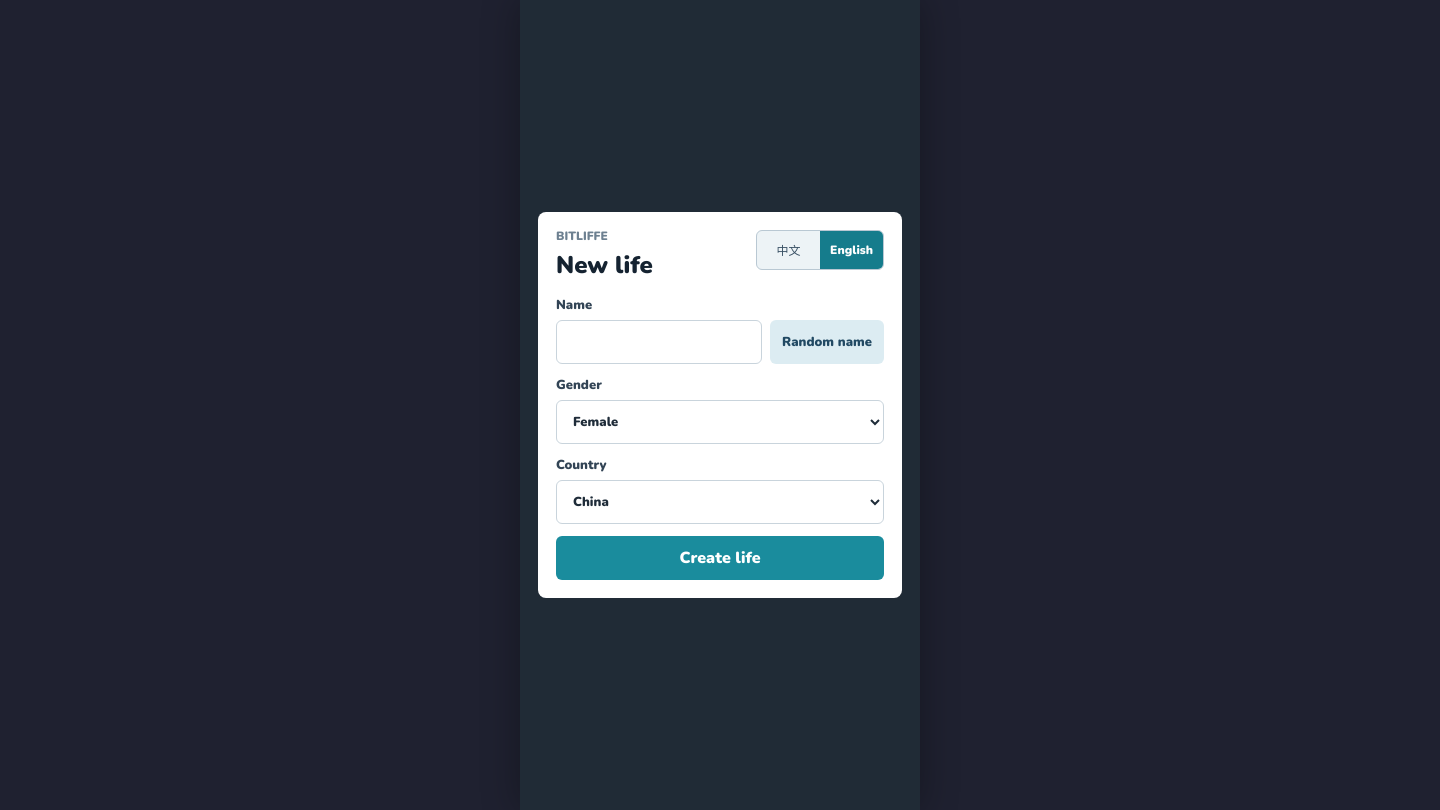
Test: P1 app integration › keeps archive and activity panels out of the life timeline page
Type "Mina Lin" into the field labelled "Name" at (659, 342), box [556,320,762,364]
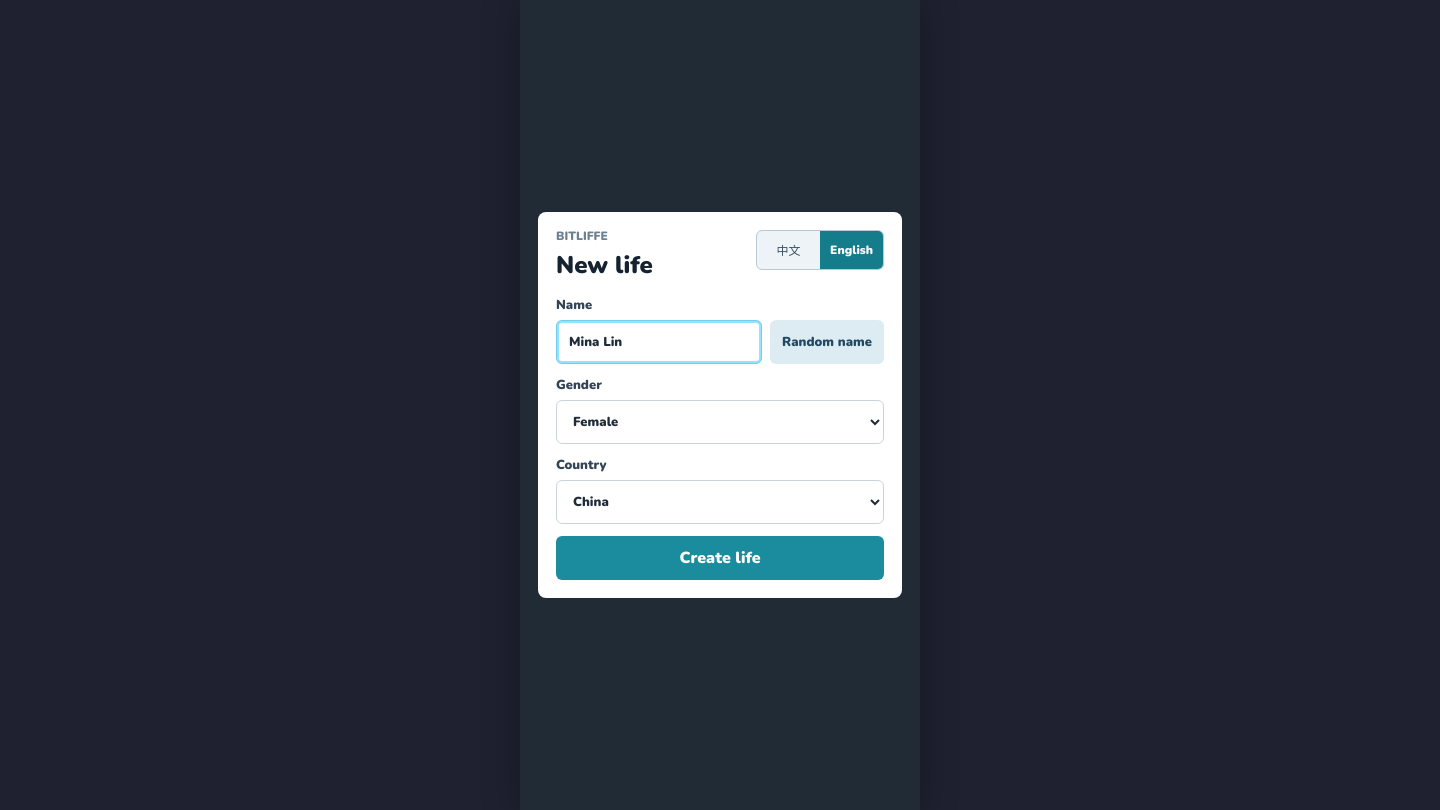
Click the button "Create life" at (720, 558), box [556,536,884,580]
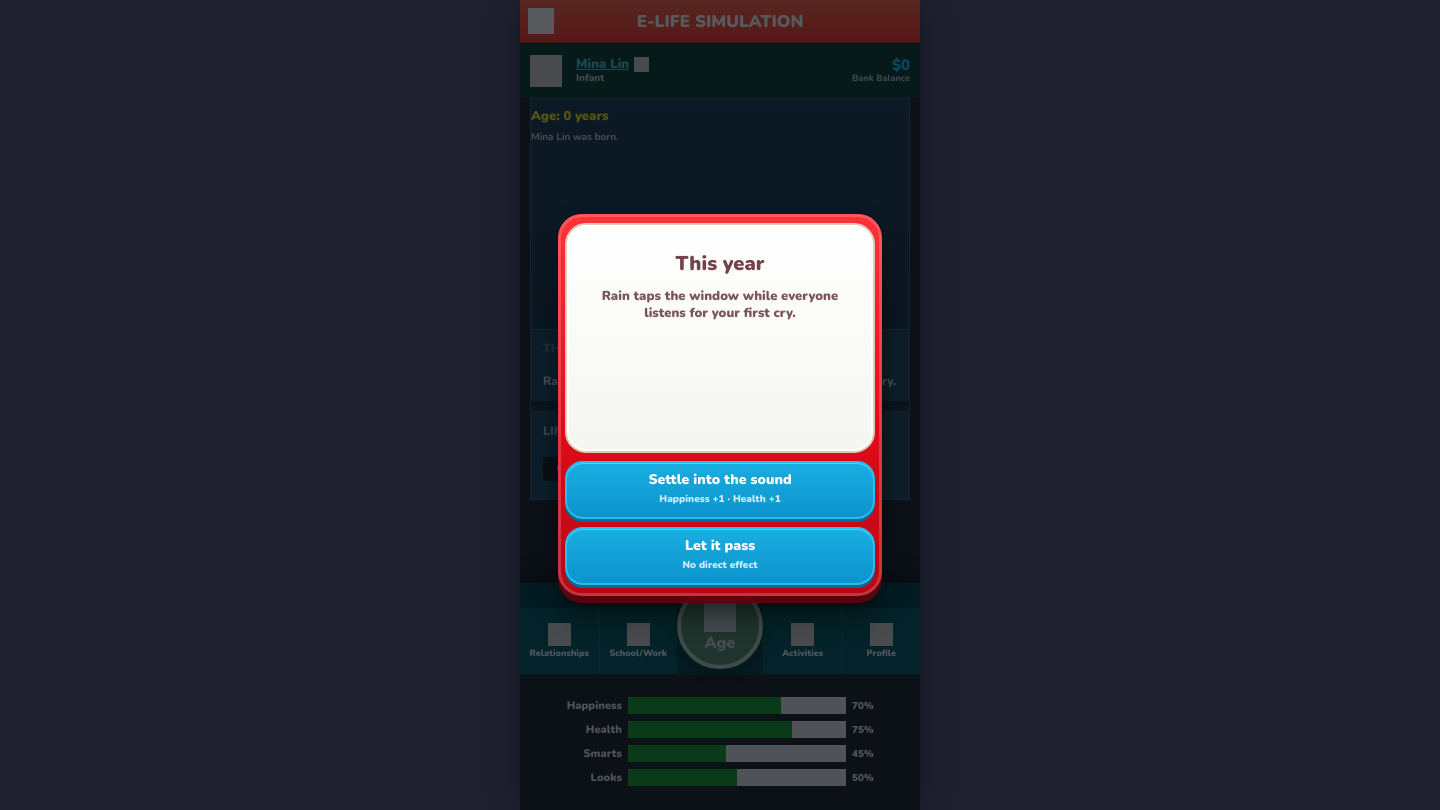
Result: the element that starts with "Age" is shown at [520,98,920,583]
